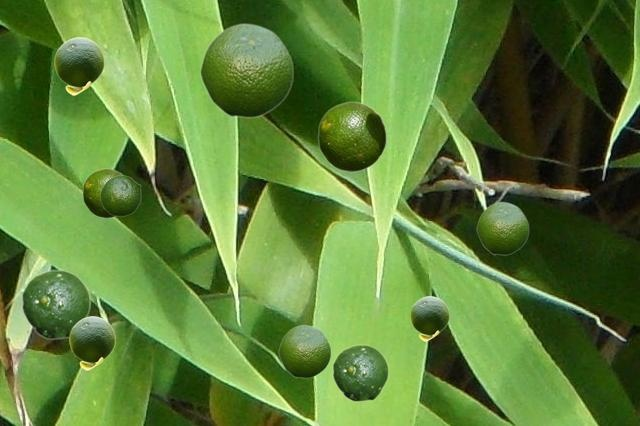calamansi: (199, 22, 293, 117), (317, 101, 386, 171), (21, 269, 90, 339), (332, 344, 388, 401), (54, 37, 103, 94), (278, 324, 330, 377), (476, 201, 528, 254), (69, 316, 114, 369), (82, 168, 123, 217), (410, 296, 448, 340), (100, 175, 140, 215)
